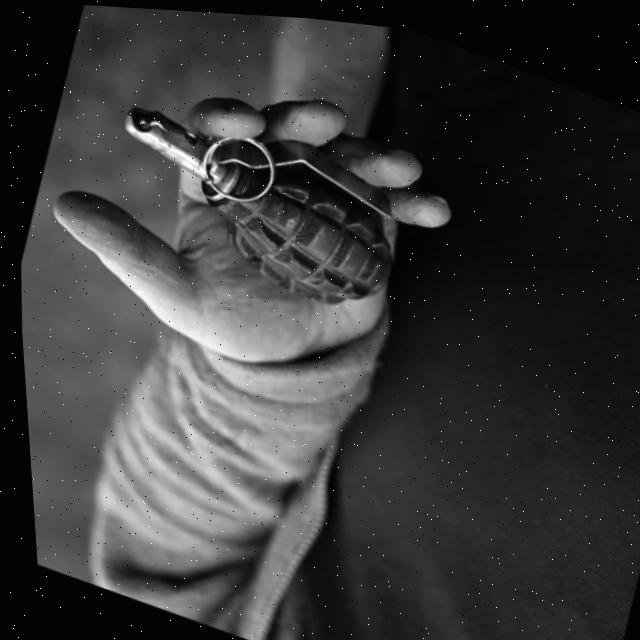grenade: (81, 93, 431, 327)
